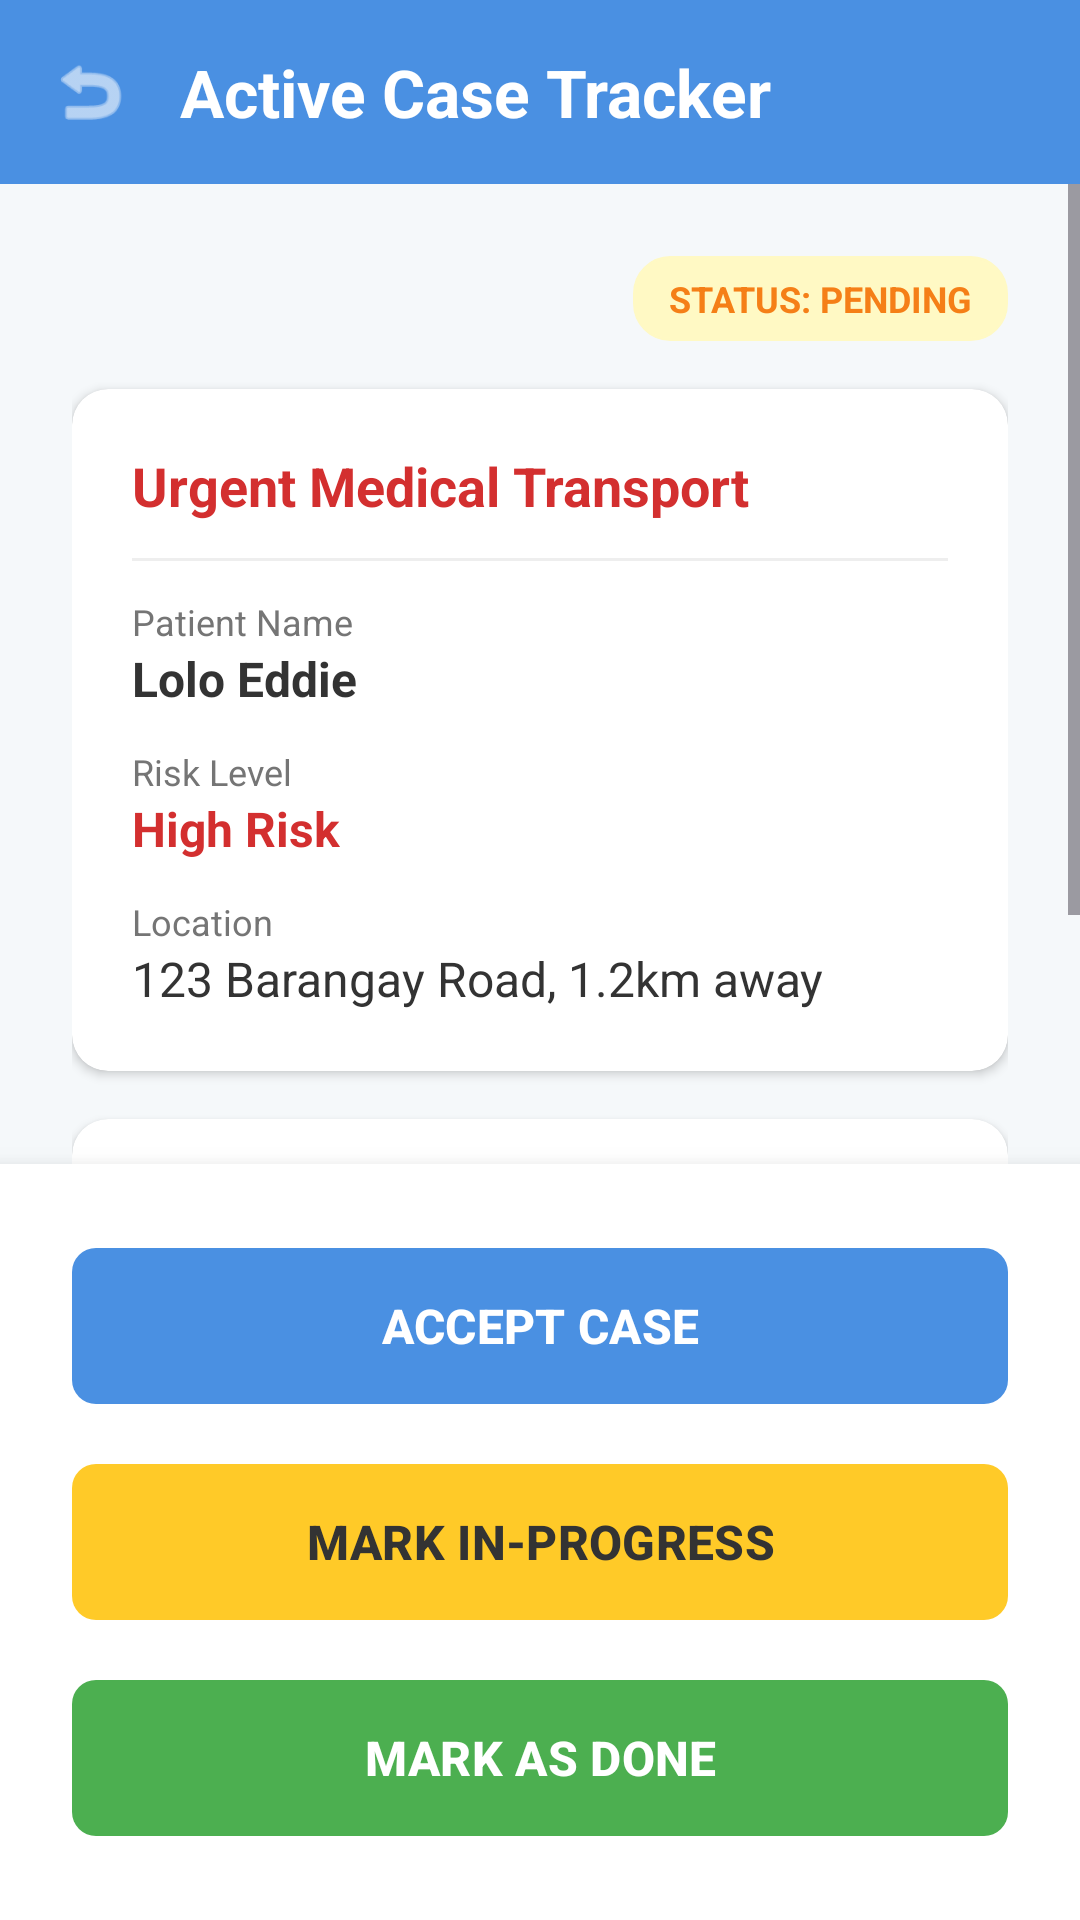

Icons on this 1080px x 1920px Android screen, each with the point to tap as [x,y]:
revert: [91,92]
